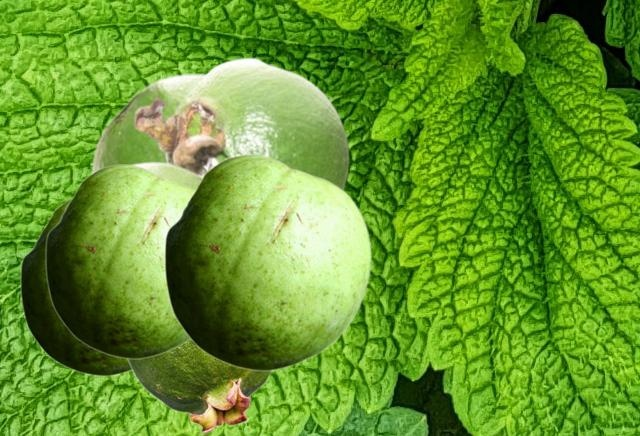guava: (164, 154, 370, 370), (45, 164, 195, 358), (132, 56, 350, 189), (20, 197, 131, 375), (126, 341, 272, 433), (89, 71, 205, 173), (130, 160, 202, 187)
